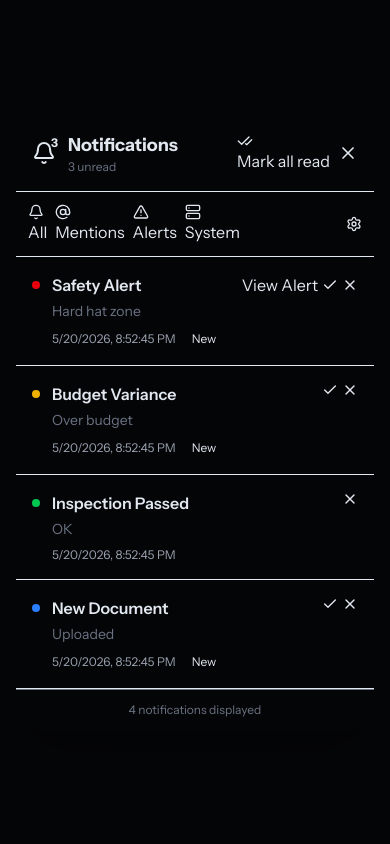
NotificationCenter › marks all notifications as read
The image size is (390, 844).
Click the button with aria-label "Mark all notifications as read".
click(283, 152)  # box [237,132,330,172]
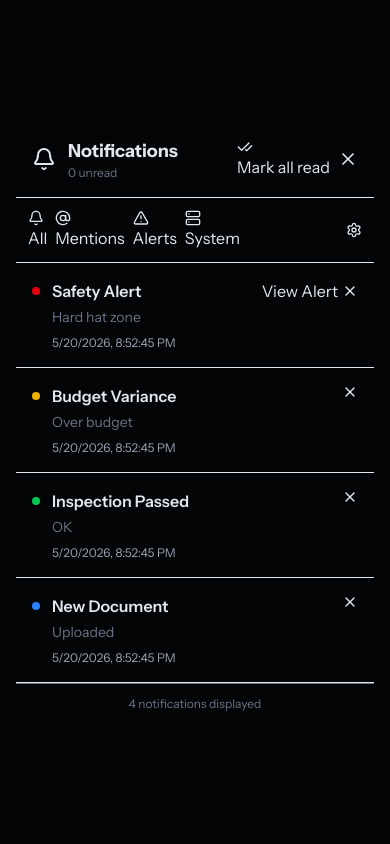
Expected: the text "0 unread" is shown, [68,164,117,180]
